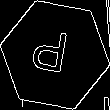P_S: (33, 27, 77, 83)
